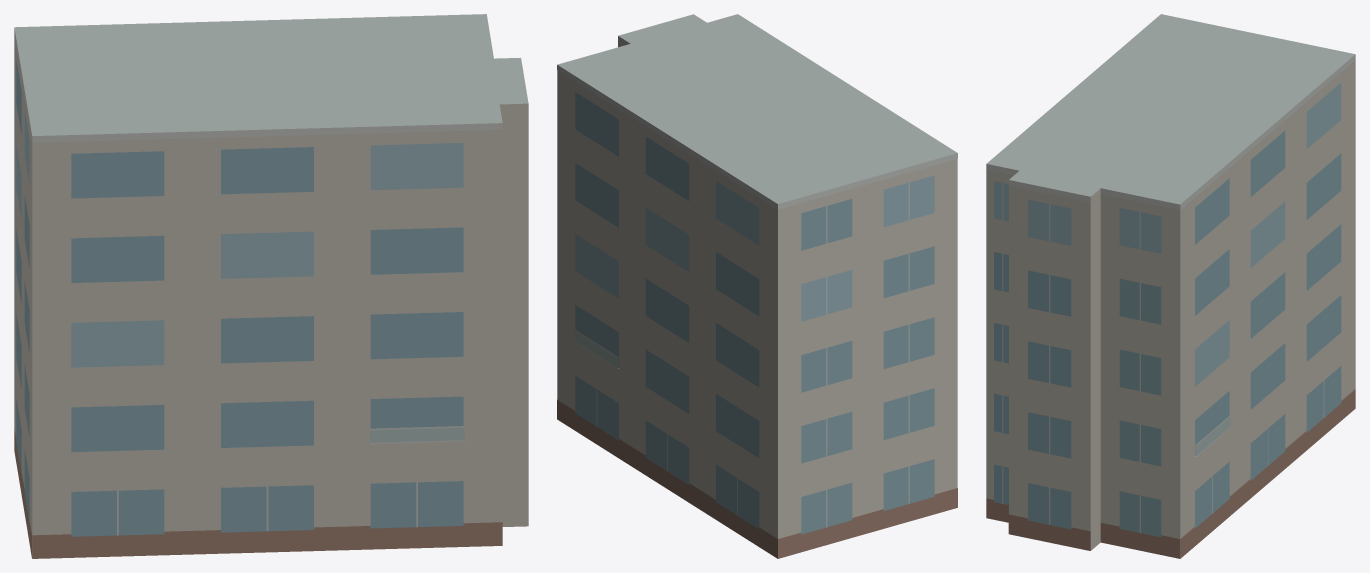
File: survey-upis-32842954.glb
The picture shows the model from 3 angles, left to right: view 1: azimuth 30°, elevation 25°; view 2: azimuth 150°, elevation 25°; view 3: azimuth 270°, elevation 25°; orthographic projection. The views are drawn at different scales.
Parts seen in each view (by area): view 1: survey-upis-32842954.tmp; view 2: survey-upis-32842954.tmp; view 3: survey-upis-32842954.tmp.
Boxes of the visible parts, x1,y1,x2,y2 form: survey-upis-32842954.tmp: (14,14,528,558); survey-upis-32842954.tmp: (557,14,957,558); survey-upis-32842954.tmp: (986,14,1355,558).
Size of the model in its own units: 17.66 by 15.3 by 14.46.
